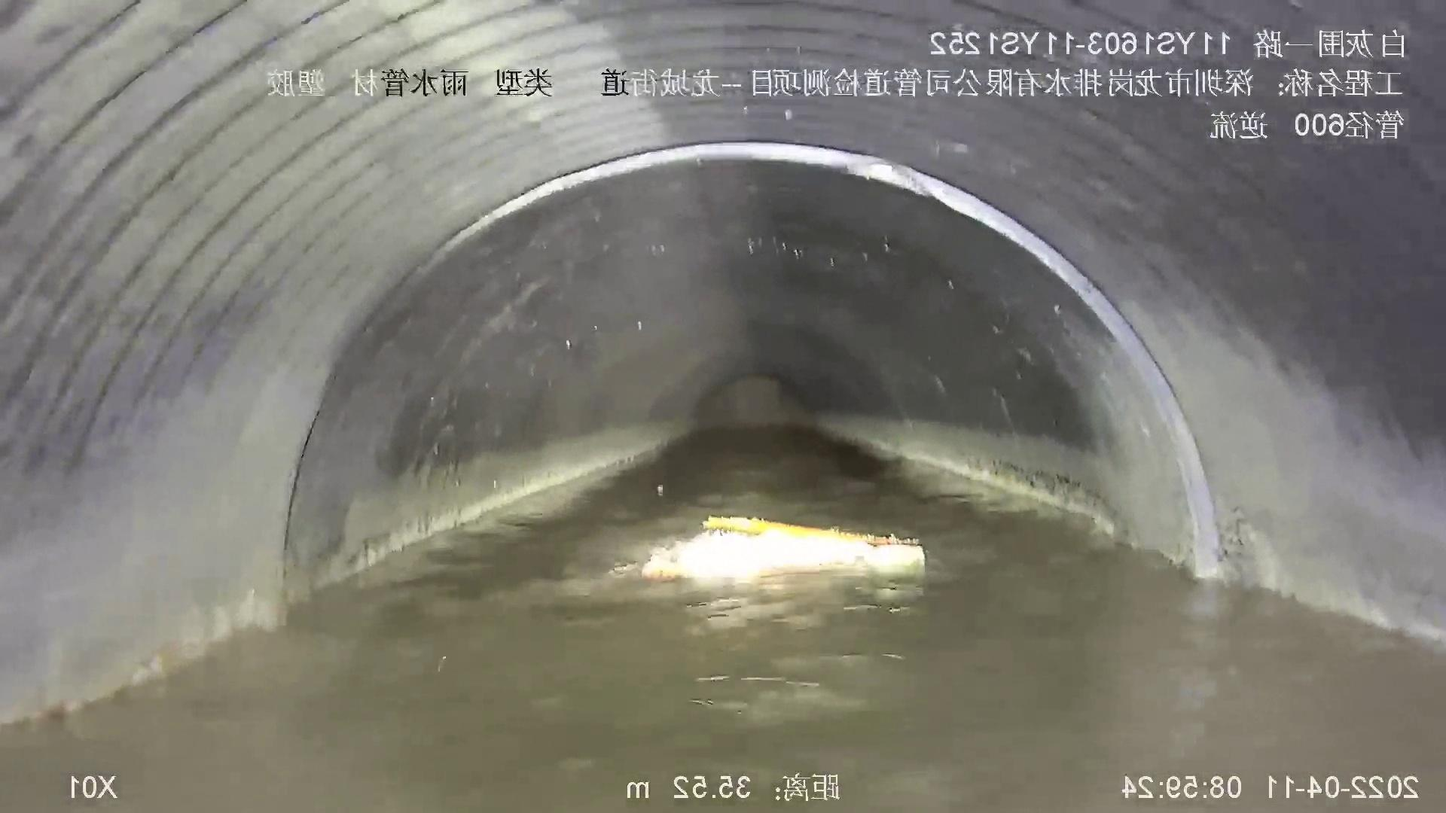CJ: (39, 426, 1198, 812)
CKTJ: (438, 142, 1222, 577)
